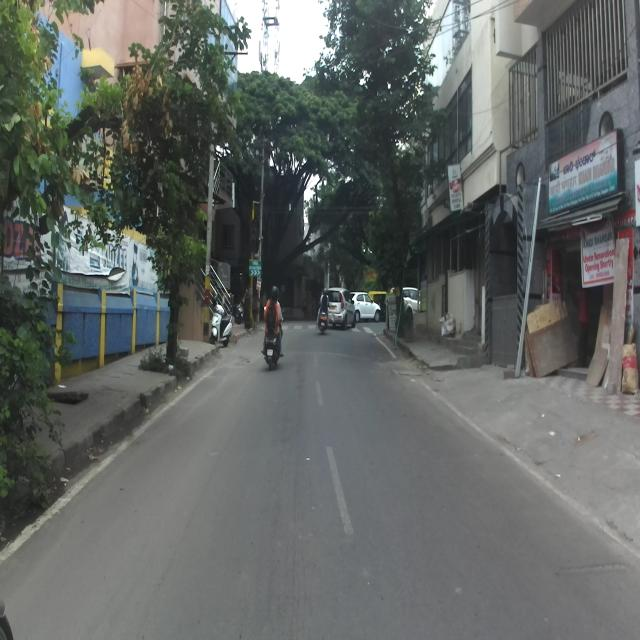motorcycle ahead at: (208, 297, 237, 348)
tree ahead at: (132, 50, 203, 369)
